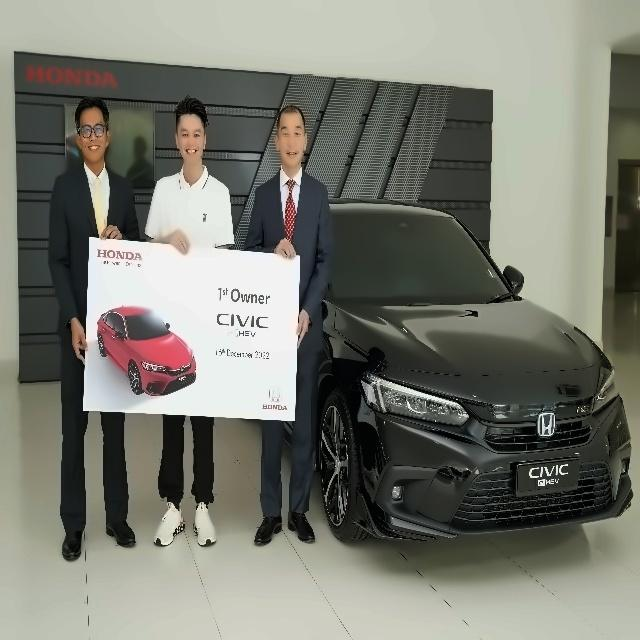Car hood: (327, 297, 614, 409)
Front bumper: (348, 406, 637, 546)
Headlight - -L-: (588, 359, 622, 415)
Headlight - -R-: (353, 362, 473, 432)
Side mirror - -L-: (493, 259, 533, 299)
